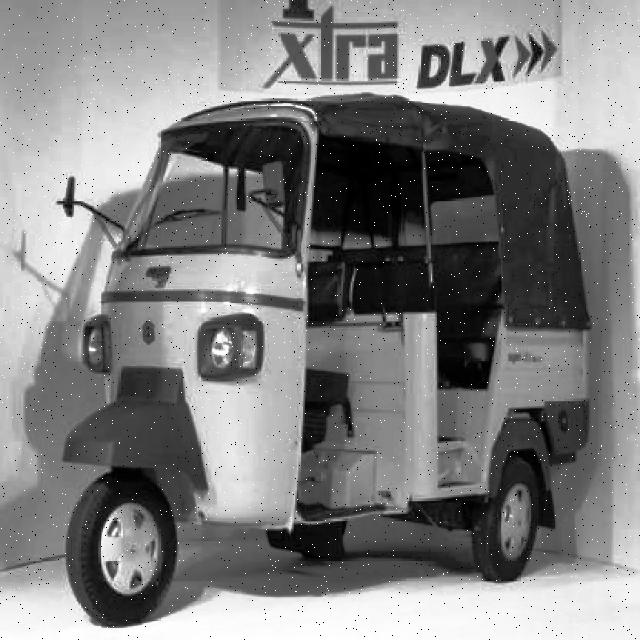Auto-Rickshaw: (57, 86, 595, 626)
